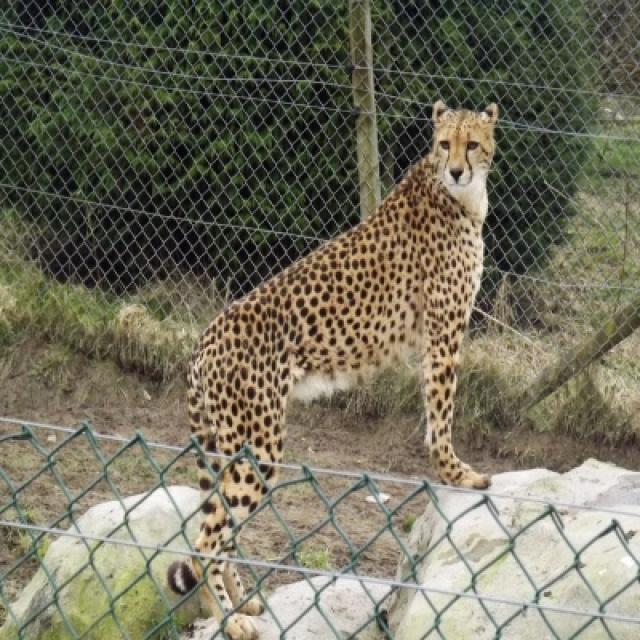Cheetah: (186, 104, 498, 552)
